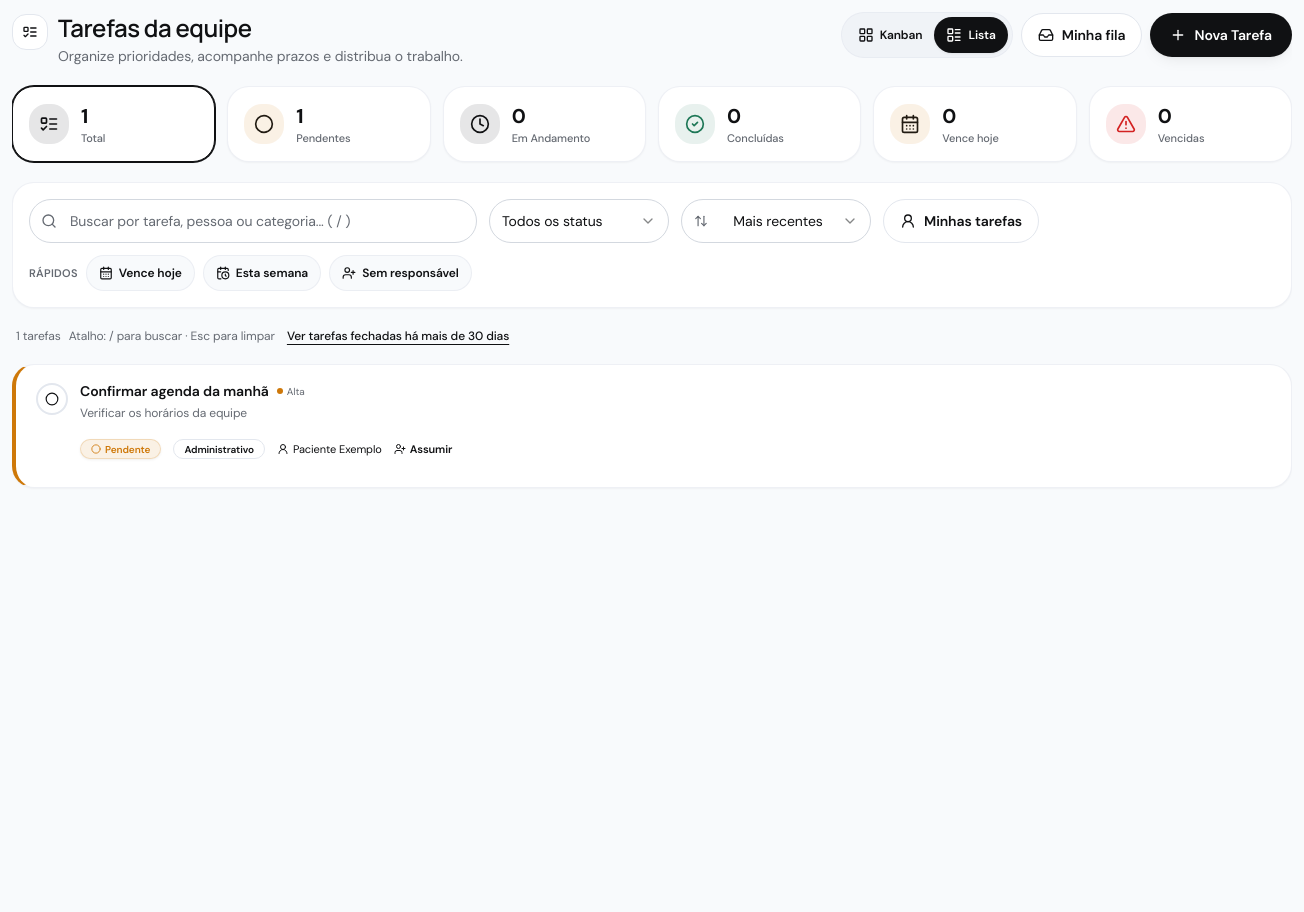
Tarefas › associa rótulos acessíveis aos campos da tarefa
Step 1. Click the button "Nova Tarefa" → point(1221, 35), box [1150,13,1292,57]
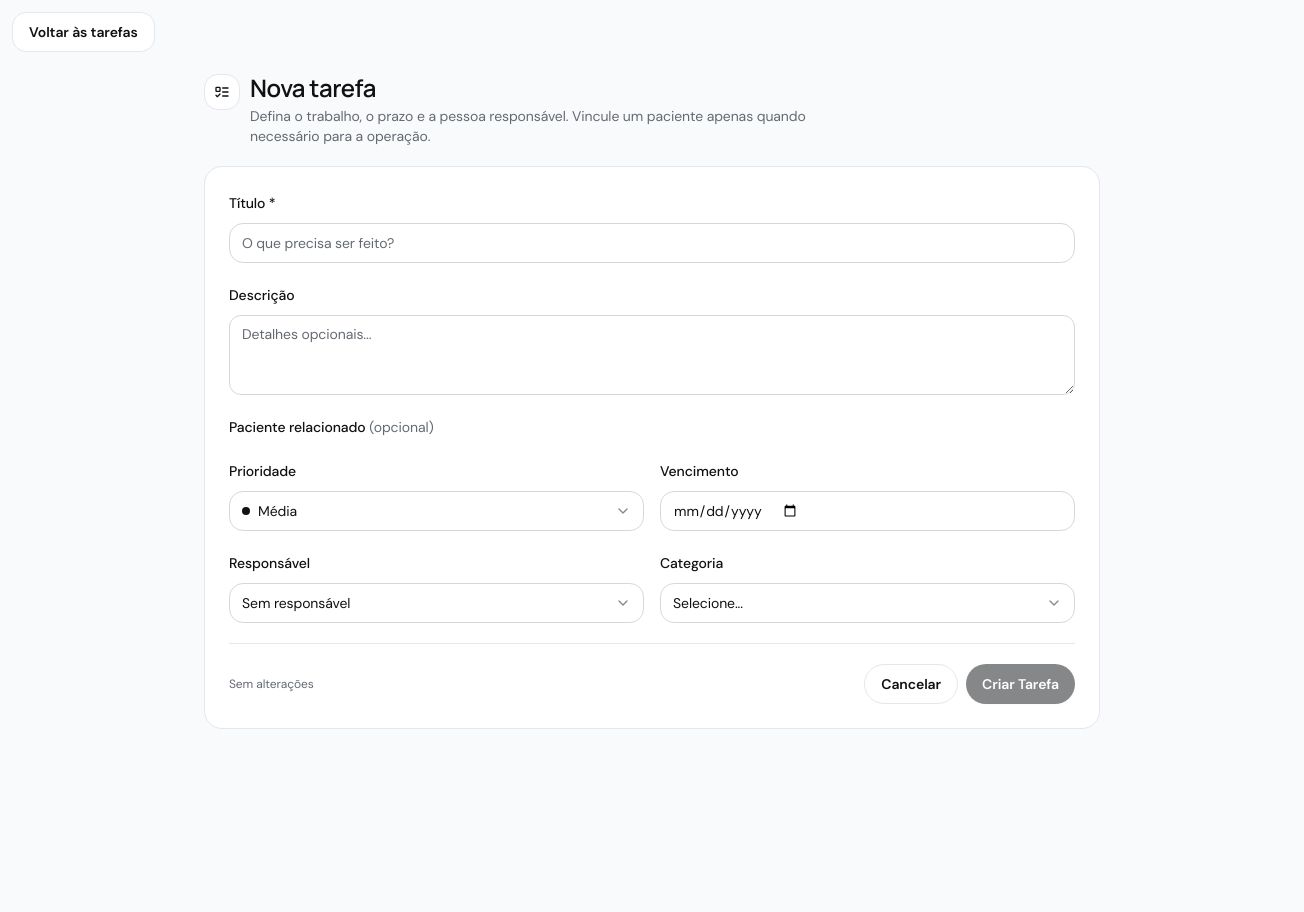
Expected: the field labelled "Título *" is shown, [229,223,1075,263]
Expected: the text box labelled "Descrição" is shown, [229,315,1075,395]
Expected: the dropdown named "Prioridade" is shown, [229,491,644,531]
